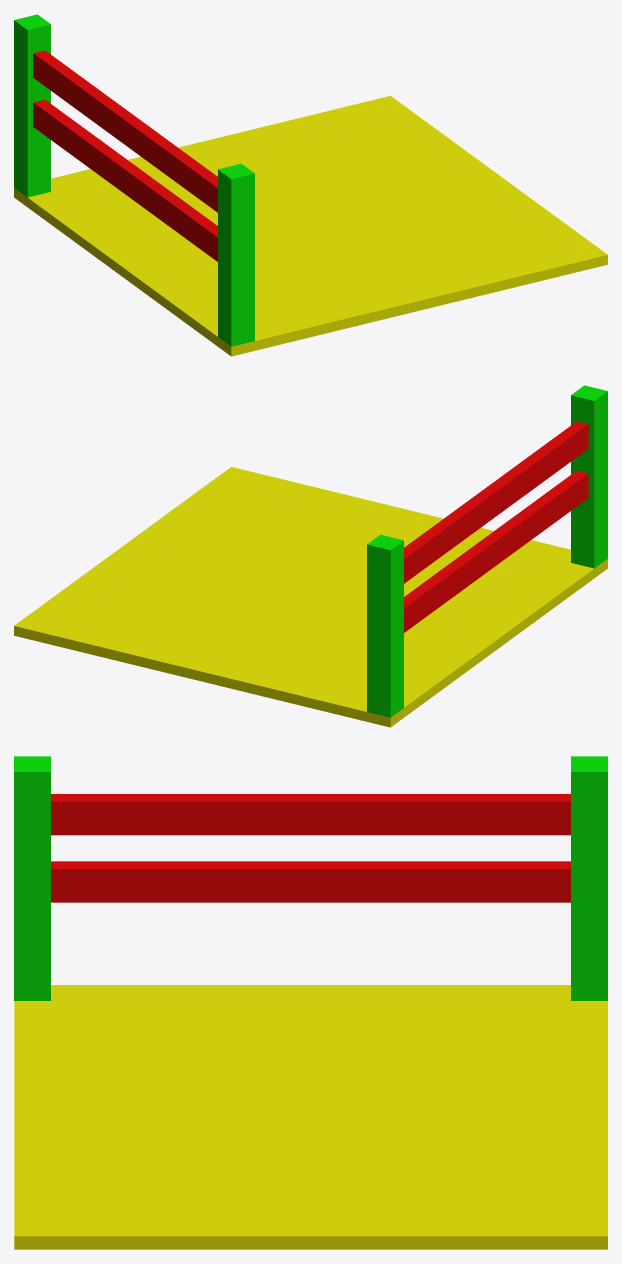
Rendered from WalkwayG_SM (3).fbx.
The picture shows the model from 3 angles, top to bottom: view 1: azimuth 30°, elevation 25°; view 2: azimuth 150°, elevation 25°; view 3: azimuth 270°, elevation 25°; orthographic projection. The views are drawn at different scales.
Parts seen in each view (by area): view 1: polySurface39; view 2: polySurface39; view 3: polySurface39.
Boxes of the visible parts, bbox=[...] form: polySurface39: bbox=[14, 14, 607, 356]; polySurface39: bbox=[14, 385, 607, 727]; polySurface39: bbox=[14, 756, 607, 1249].
Size of the model in its own units: 8 by 3.6 by 8.
